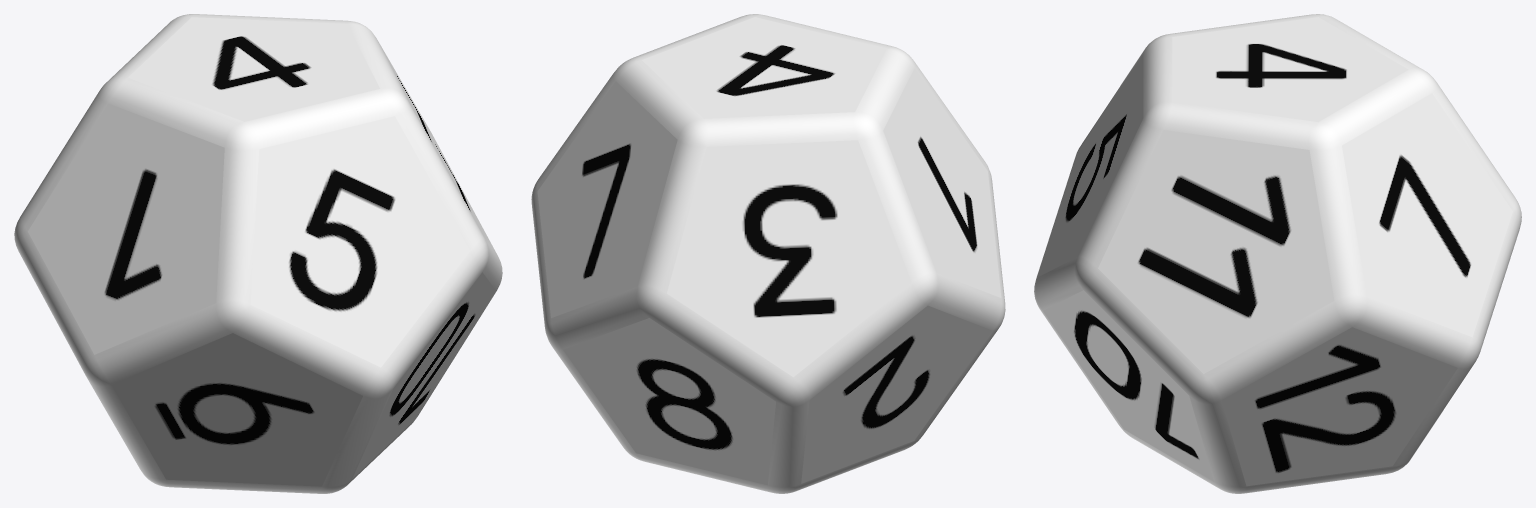
Rendered from Dado12.FBX.
3 views of the same model, side by side, from view 1: azimuth 30°, elevation 25°; view 2: azimuth 150°, elevation 25°; view 3: azimuth 270°, elevation 25° (orthographic). The views are drawn at different scales.
Parts seen in each view (by area): view 1: Dado12; view 2: Dado12; view 3: Dado12.
Boxes of the visible parts, left/top/right/bottom form: Dado12: left=14, top=14, right=502, bottom=493; Dado12: left=531, top=14, right=1005, bottom=493; Dado12: left=1034, top=14, right=1521, bottom=493.
Bounding box in the file's own units: 232 × 202 × 242.
